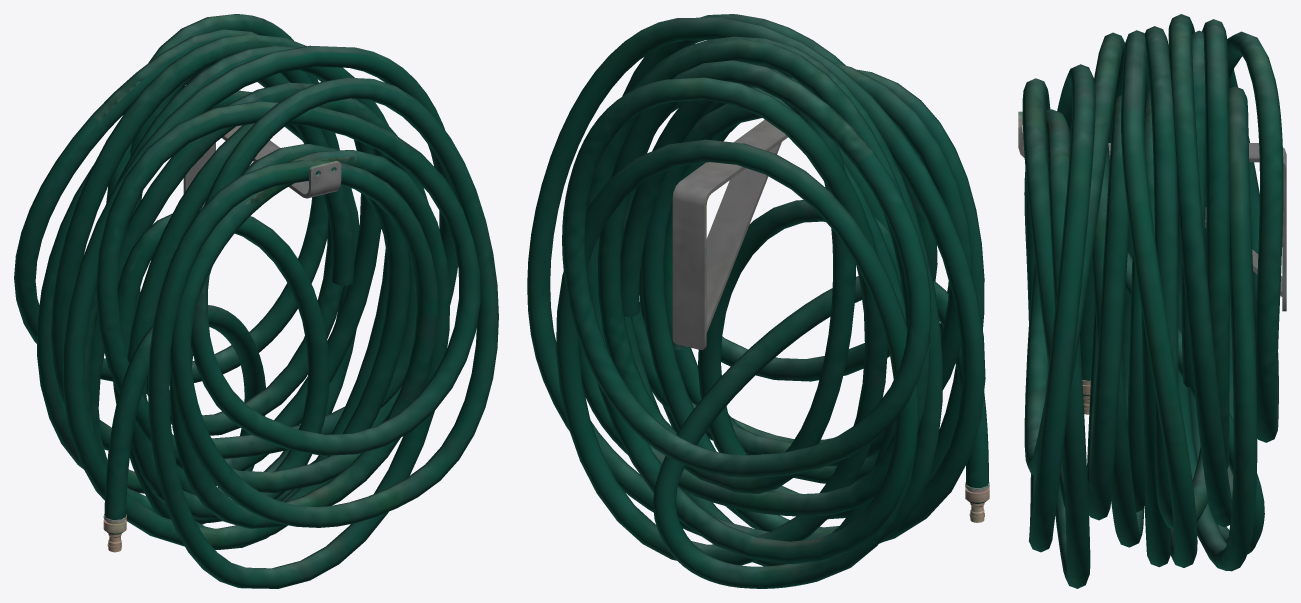
File: garden_hose_wall_mounted_01.glb
3 views of the same model, side by side, from view 1: azimuth 30°, elevation 25°; view 2: azimuth 150°, elevation 25°; view 3: azimuth 270°, elevation 25° (orthographic). The views are drawn at different scales.
Parts seen in each view (by area): view 1: garden_hose, garden_hose_wall_bracket; view 2: garden_hose, garden_hose_wall_bracket; view 3: garden_hose, garden_hose_wall_bracket.
Boxes of the visible parts, x1=… form: garden_hose: x1=14, y1=14, x2=498, y2=588; garden_hose_wall_bracket: x1=183, y1=125, x2=341, y2=207; garden_hose: x1=527, y1=14, x2=989, y2=588; garden_hose_wall_bracket: x1=672, y1=119, x2=787, y2=349; garden_hose: x1=1022, y1=14, x2=1283, y2=588; garden_hose_wall_bracket: x1=1018, y1=111, x2=1286, y2=311.
Size of the model in its own units: 0.4667 by 0.557 by 0.2503.
Materials: 1 (1 with a texture image).
